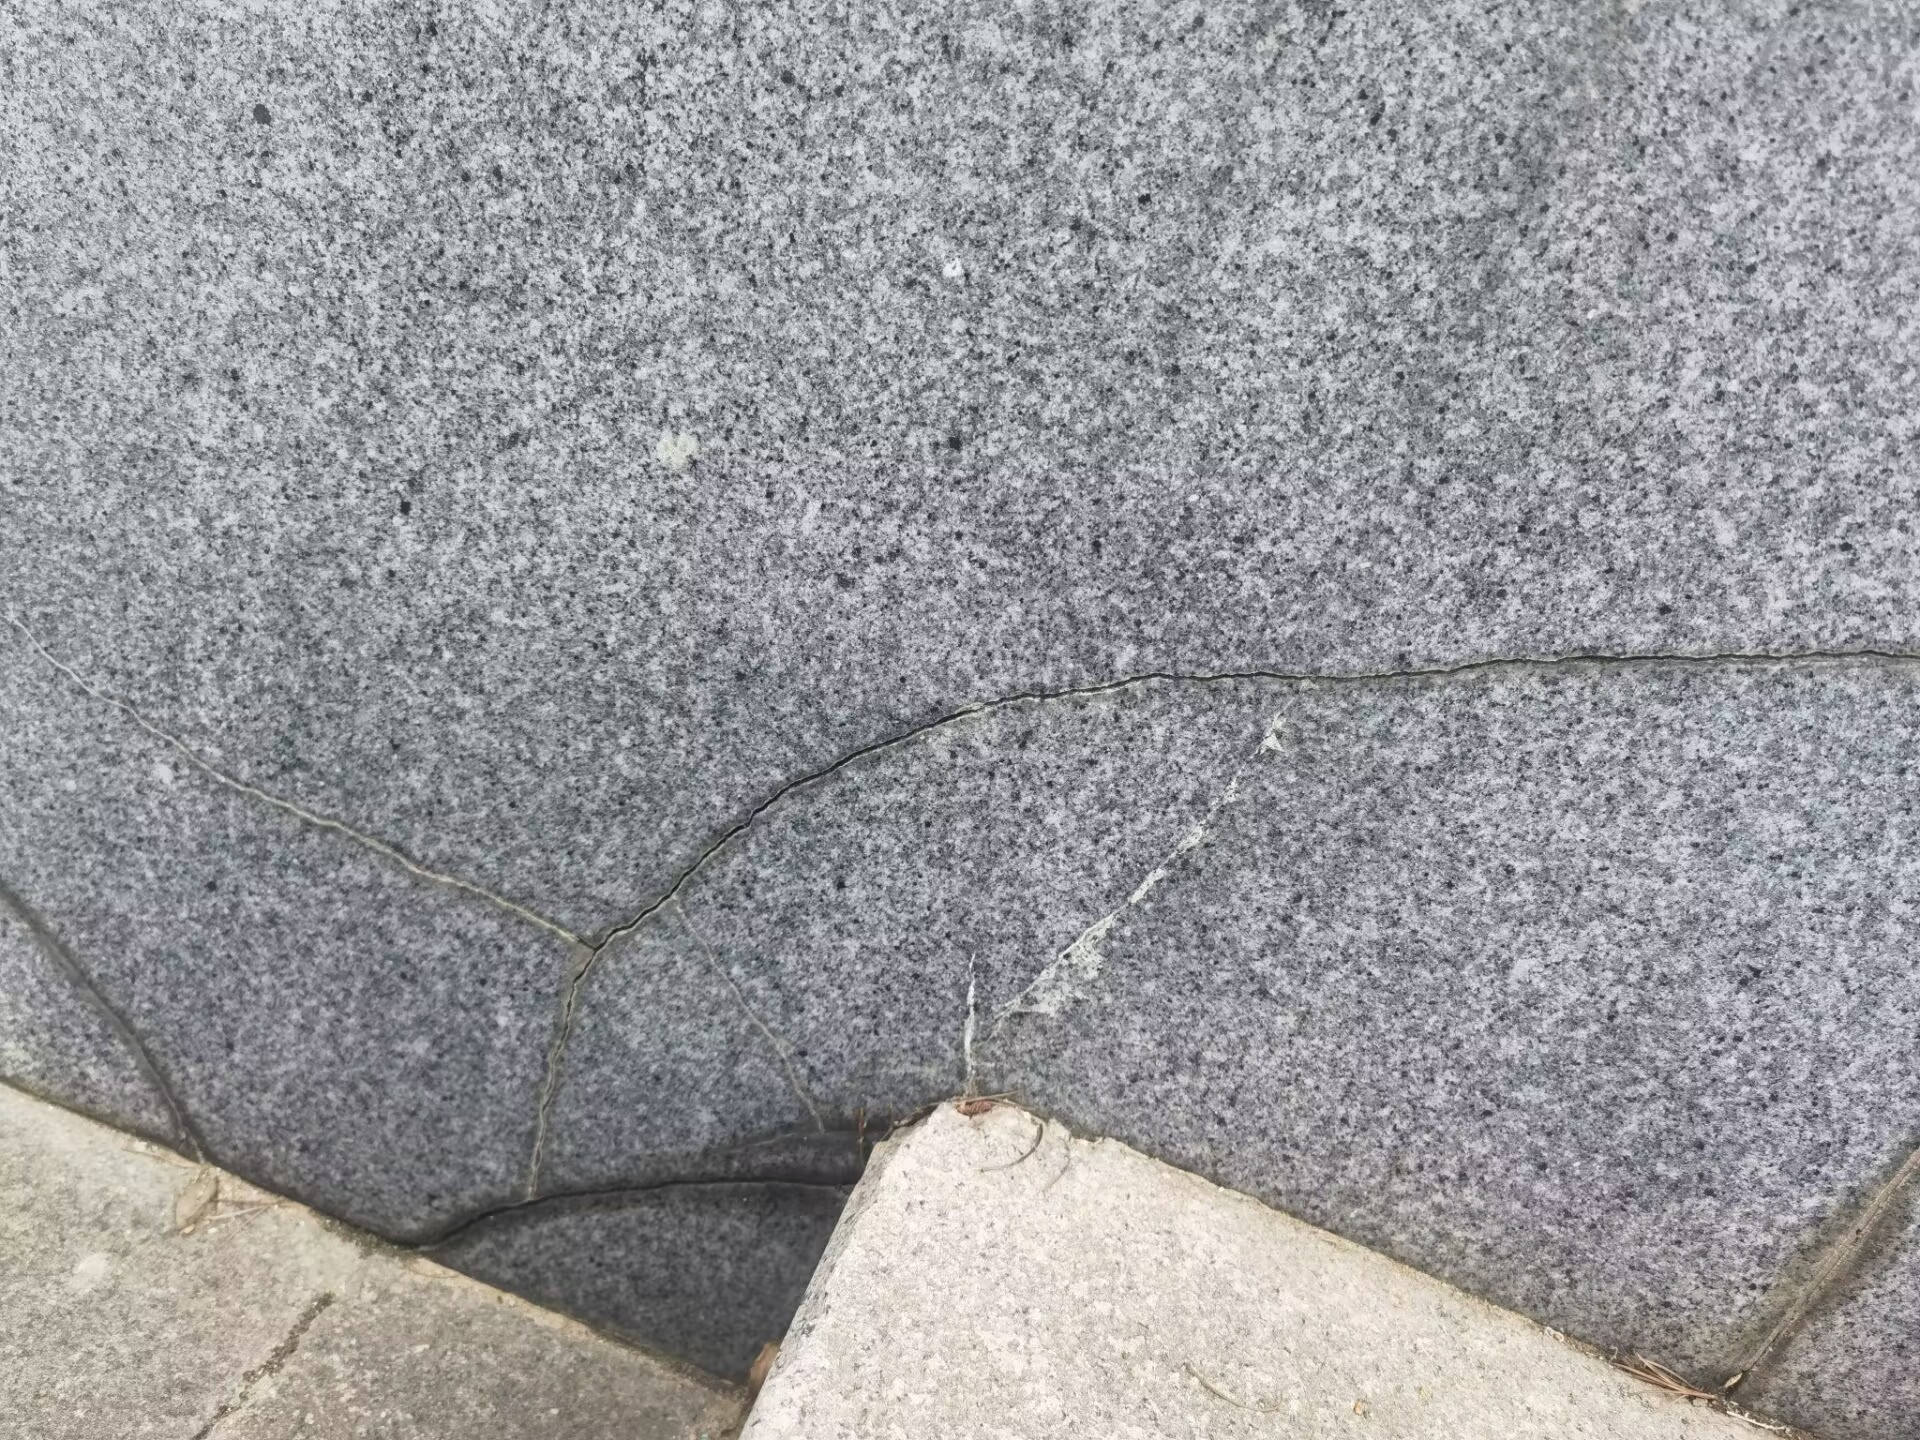TILE: (0, 643, 1920, 1248)
